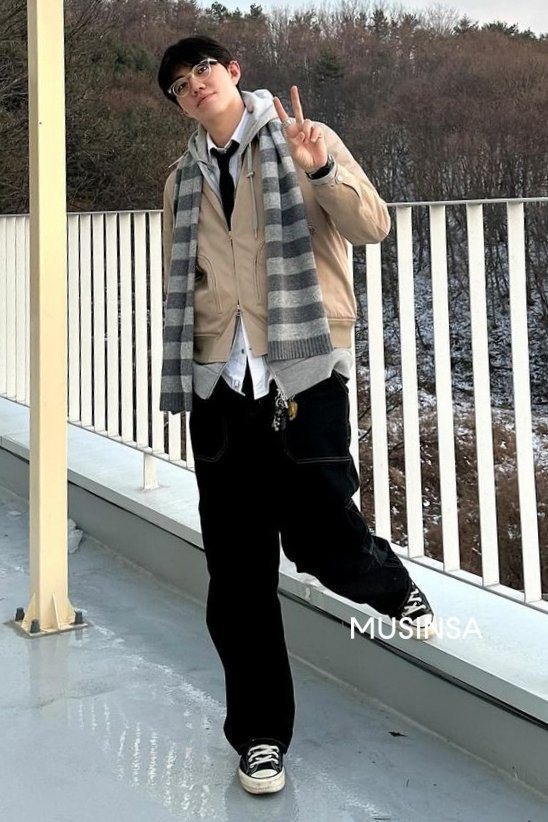Glasses: (166, 54, 225, 97)
Muffler: (157, 132, 331, 412)
Outer: (154, 111, 400, 388)
Pants: (188, 354, 412, 750)
Shoes: (232, 561, 443, 801)
